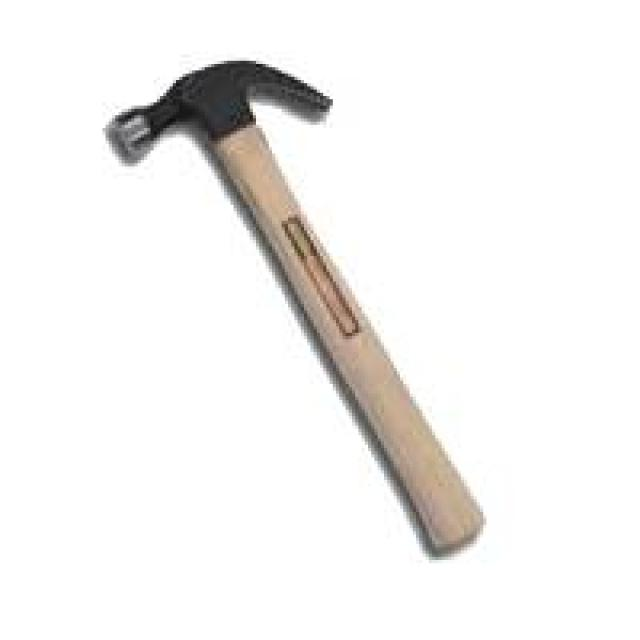Hammer: (100, 56, 493, 559)
